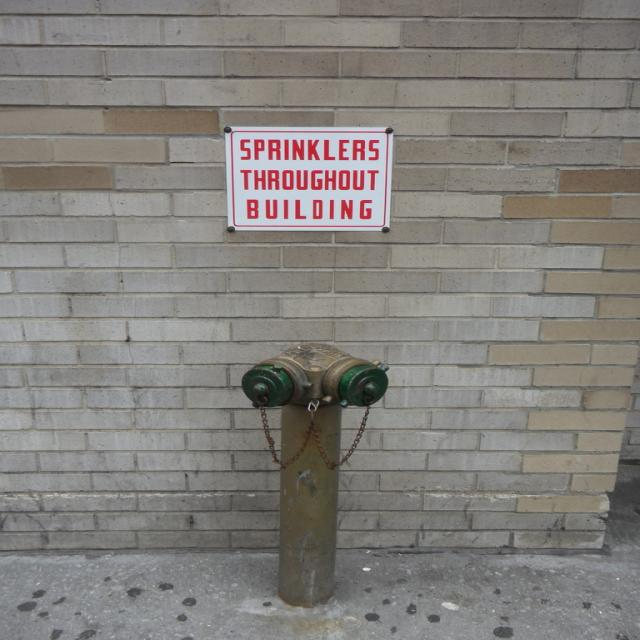fire_hydrant: (242, 342, 391, 604)
